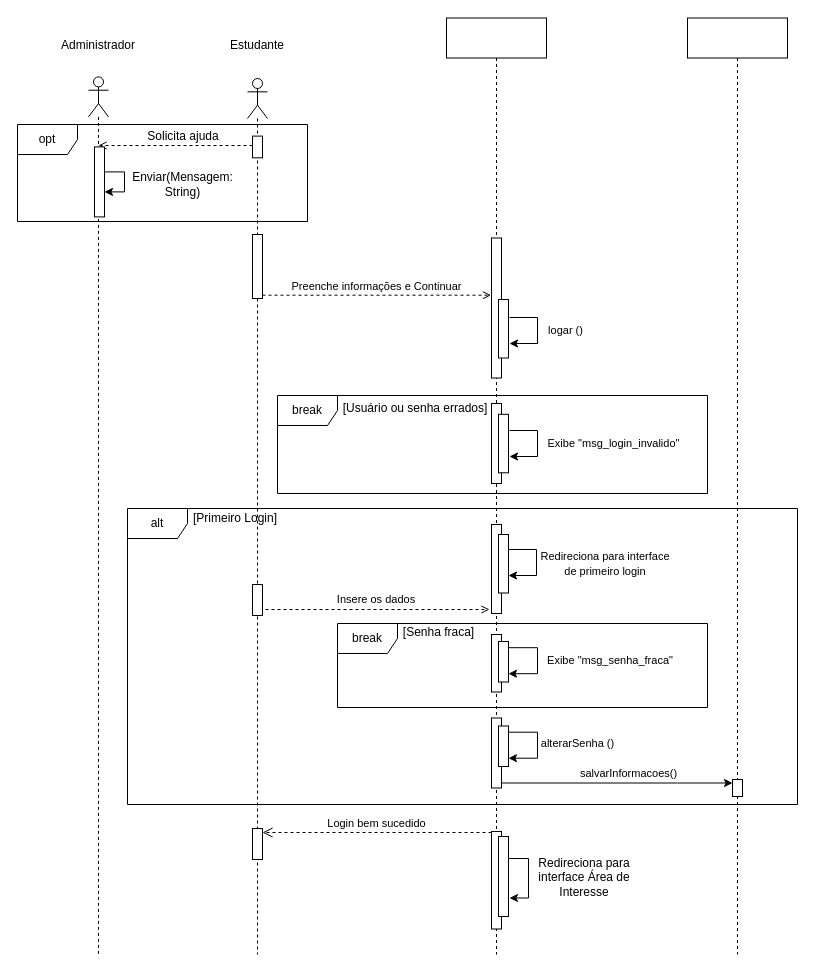
This 815x972 diagram has some shape labels left out. Each missing label, with the box of its shape:
:SignInManager: (446, 17, 546, 954)
:Usuário: (686, 17, 788, 954)
